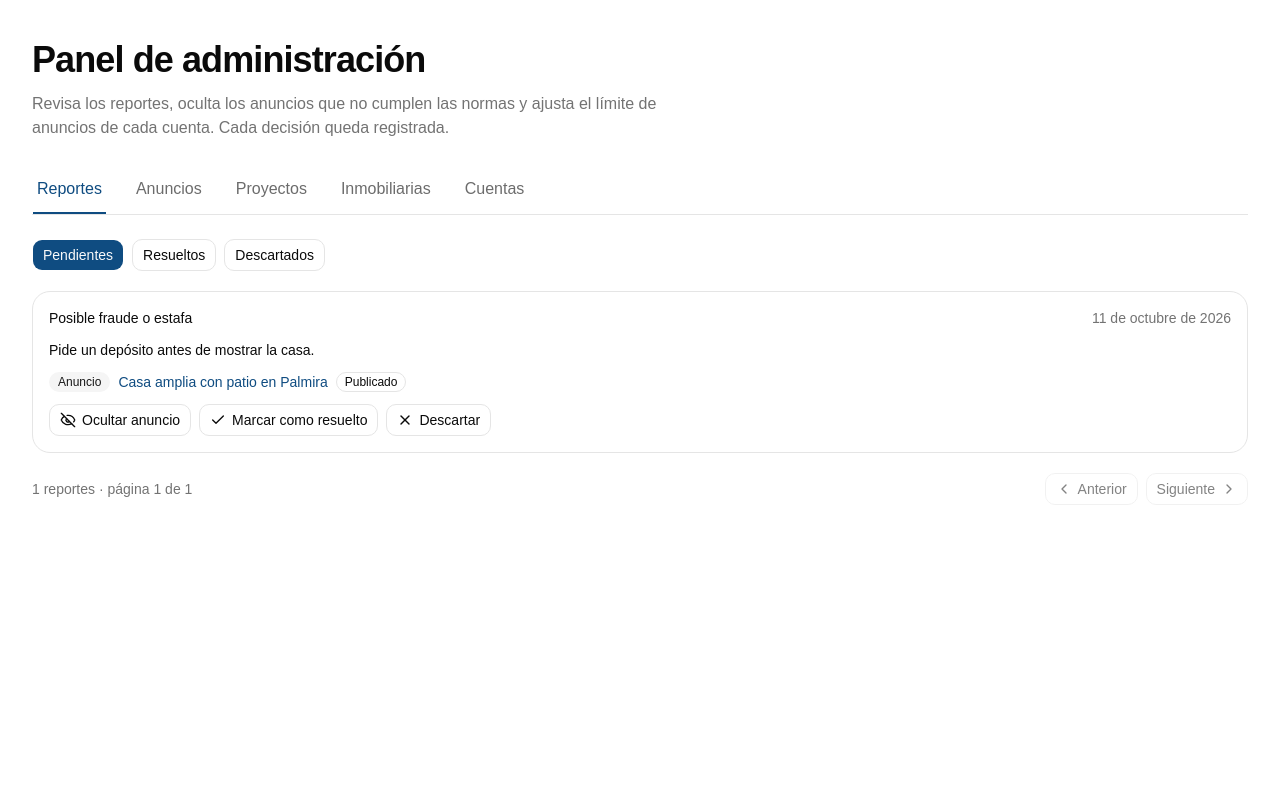
AdminDashboardPage › oculta el anuncio reportado tras confirmarlo, con la nota escrita, y vuelve a leer la lista
Click the button "Ocultar anuncio" at (120, 420), box [49, 404, 191, 436]
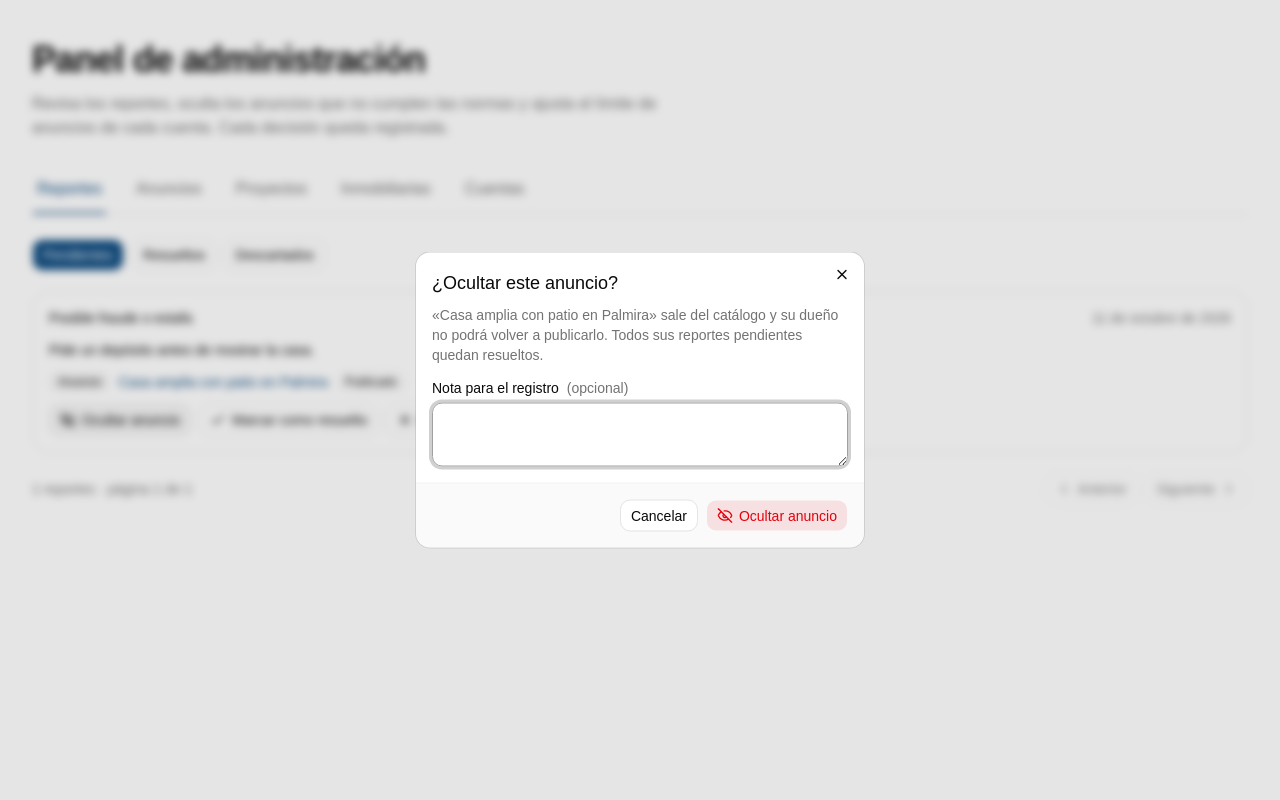
Type "  Estafa confirmada " into the text box labelled "Nota para el registro (opcional)" at (640, 434), box [432, 402, 848, 466]
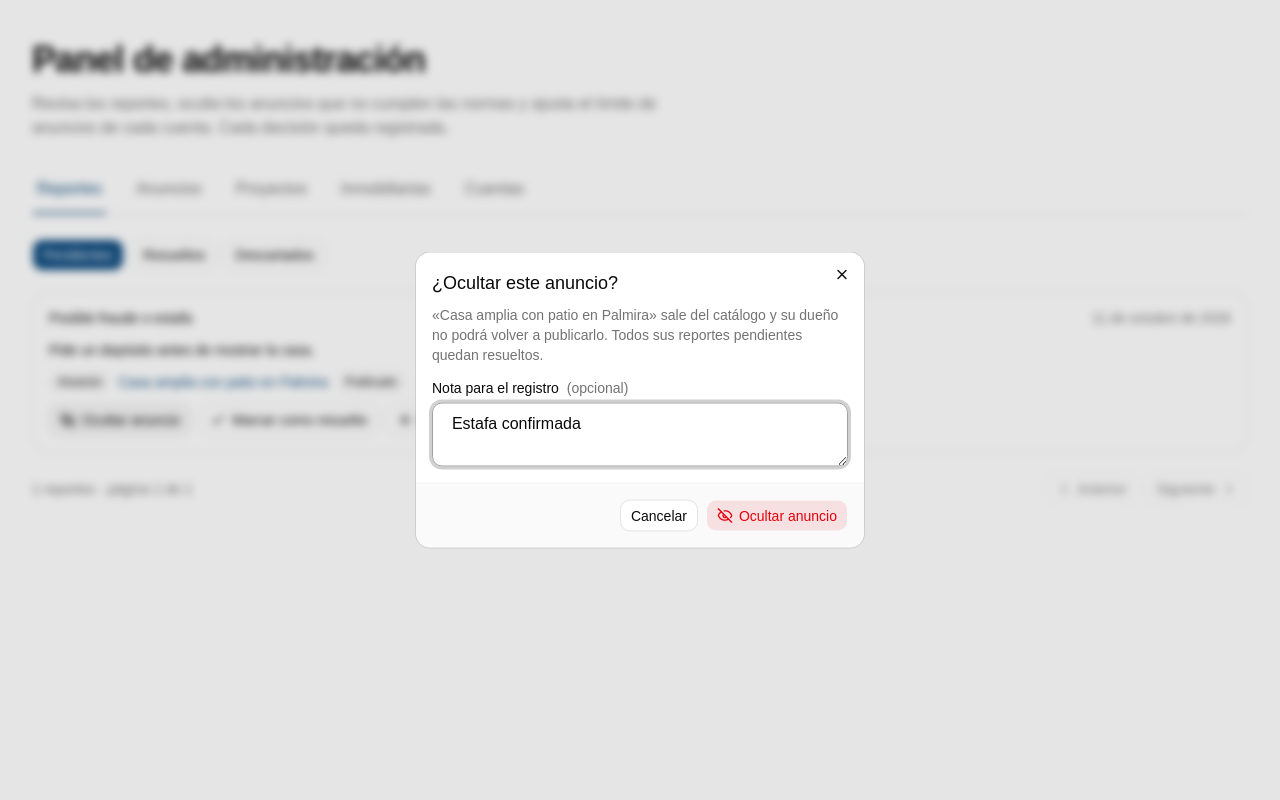
Click the button "Ocultar anuncio" at (777, 516), box [706, 500, 848, 532]
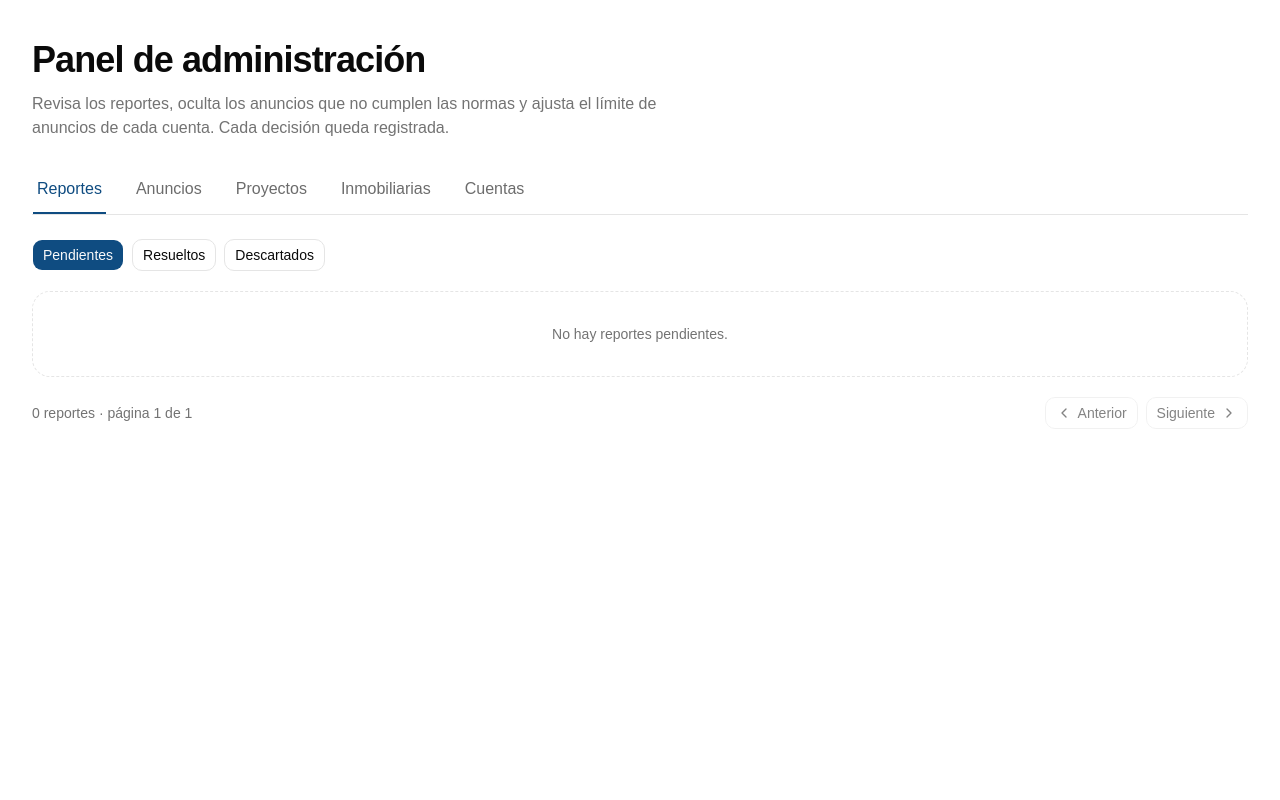
Result: the text "No hay reportes pendientes." is shown at [32, 291, 1248, 377]
Result: the dialog is gone
